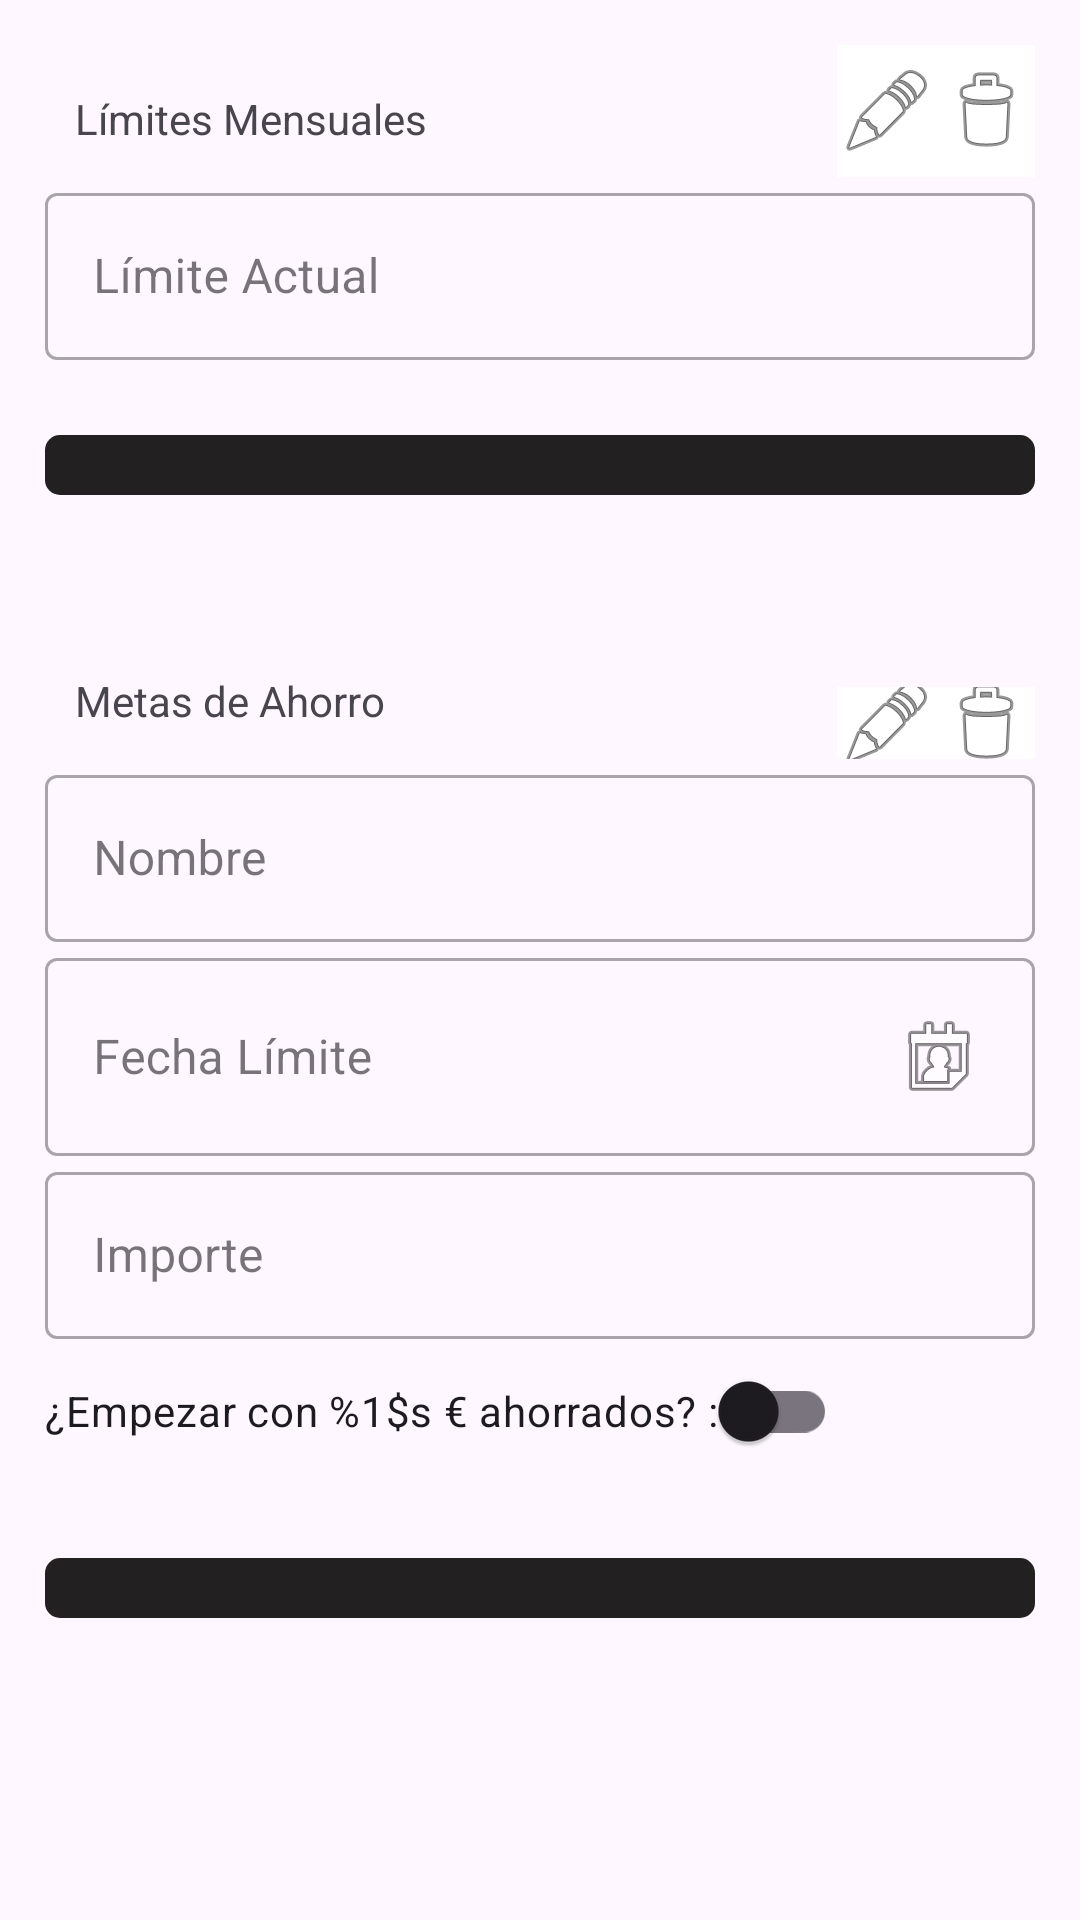

Named icons in this screenshot (1080×1920) and their centers, (x=x, y=y):
delete: (x=986, y=109), (x=986, y=723)
edit: (x=886, y=110), (x=886, y=723)
